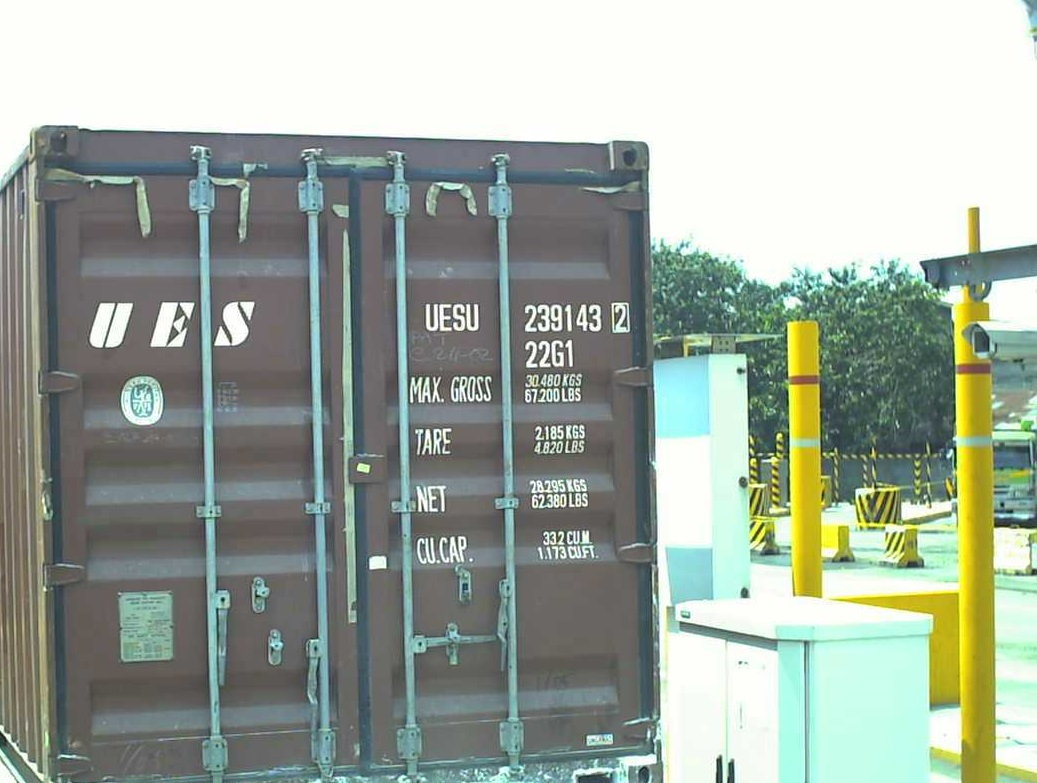container_door: (30, 126, 658, 783)
